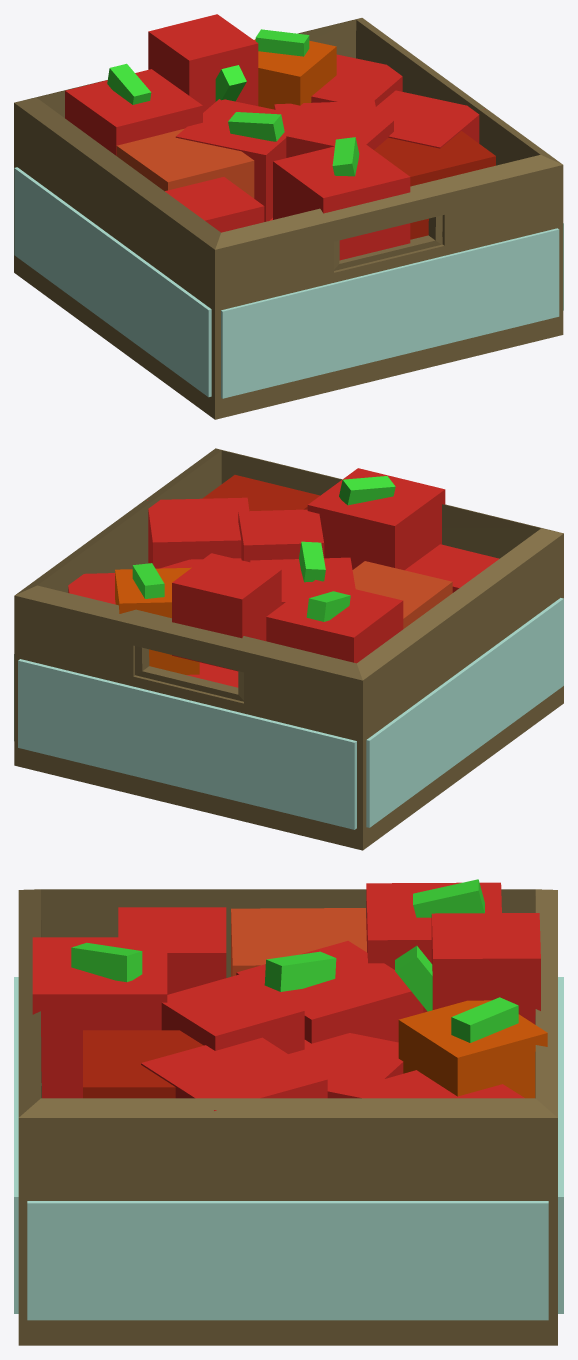
The model's file is AppleCrate.fbx.
The picture shows the model from 3 angles, top to bottom: view 1: azimuth 30°, elevation 25°; view 2: azimuth 150°, elevation 25°; view 3: azimuth 270°, elevation 25°; orthographic projection. The views are drawn at different scales.
Parts seen in each view (by area): view 1: Cube, Plane.002, Plane.003, Cube.002, Cube.012, Cube.011, Cube.010, Cube.009, Cube.004, Cube.003, Cube.006, Cube.007 (+8 smaller); view 2: Cube, Plane, Plane.003, Cube.002, Cube.012, Cube.011, Cube.004, Cube.007, Cube.010, Cube.006, Cube.003, Cube.001 (+7 smaller); view 3: Cube, Plane.001, Cube.002, Cube.012, Cube.006, Cube.009, Cube.007, Cube.004, Cube.010, Cube.001, Cube.003, Cube.011 (+9 smaller).
Part boxes in pixels (<box>): Cube: <box>14,18,563,419</box>; Plane.002: <box>221,228,559,398</box>; Plane.003: <box>14,167,211,397</box>; Cube.002: <box>273,140,410,260</box>; Cube.012: <box>148,14,258,112</box>; Cube.011: <box>65,69,202,155</box>; Cube.010: <box>116,128,254,198</box>; Cube.009: <box>175,99,308,221</box>; Cube.004: <box>367,90,485,148</box>; Cube.003: <box>374,131,495,239</box>; Cube.006: <box>254,39,336,109</box>; Cube.007: <box>286,106,393,157</box>; Cube: <box>14,448,563,850</box>; Plane: <box>18,659,356,829</box>; Plane.003: <box>366,598,563,827</box>; Cube.002: <box>307,468,445,570</box>; Cube.012: <box>172,553,281,671</box>; Cube.011: <box>266,580,403,663</box>; Cube.004: <box>147,497,249,568</box>; Cube.007: <box>238,509,324,562</box>; Cube.010: <box>352,561,452,628</box>; Cube.006: <box>115,567,199,674</box>; Cube.003: <box>202,475,319,511</box>; Cube.001: <box>405,544,499,592</box>; Cube: <box>18,889,557,1345</box>; Plane.001: <box>27,1201,548,1320</box>; Cube.002: <box>32,937,167,1098</box>; Cube.012: <box>431,913,540,1024</box>; Cube.006: <box>398,1000,547,1098</box>; Cube.009: <box>236,941,423,1043</box>; Cube.007: <box>161,973,304,1053</box>; Cube.004: <box>141,1037,327,1110</box>; Cube.010: <box>231,908,366,976</box>; Cube.001: <box>118,907,226,994</box>; Cube.003: <box>83,1030,203,1098</box>; Cube.011: <box>366,882,501,1012</box>.
Size of the model in its own units: 408 by 236 by 408.
